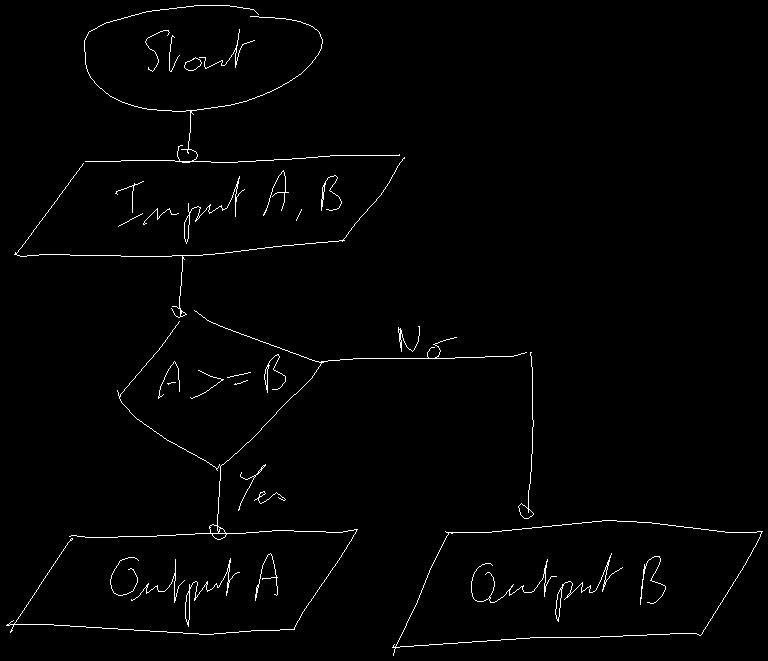arrow: (321, 352, 533, 518), (209, 464, 226, 539), (177, 110, 197, 162), (171, 255, 186, 317)
data: (392, 520, 762, 655), (14, 154, 404, 256), (6, 529, 357, 634)
decision: (117, 310, 323, 470)
terminator: (84, 5, 322, 111)
text: (115, 170, 341, 243), (471, 553, 665, 621), (110, 553, 277, 626), (158, 354, 285, 398), (145, 29, 254, 71), (238, 464, 285, 510), (398, 326, 456, 358)
